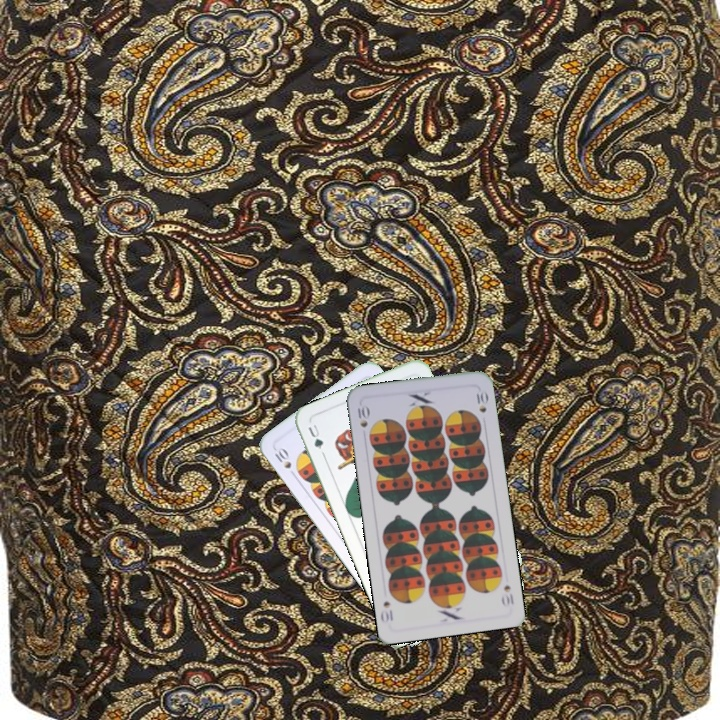GU: (304, 420, 326, 452)
S10: (270, 443, 294, 471), (353, 400, 371, 430), (498, 580, 516, 610)
